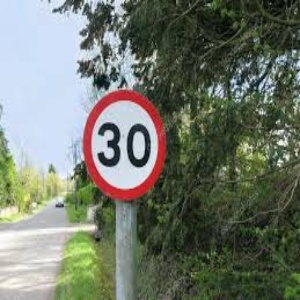30 speed: (83, 90, 168, 202)
